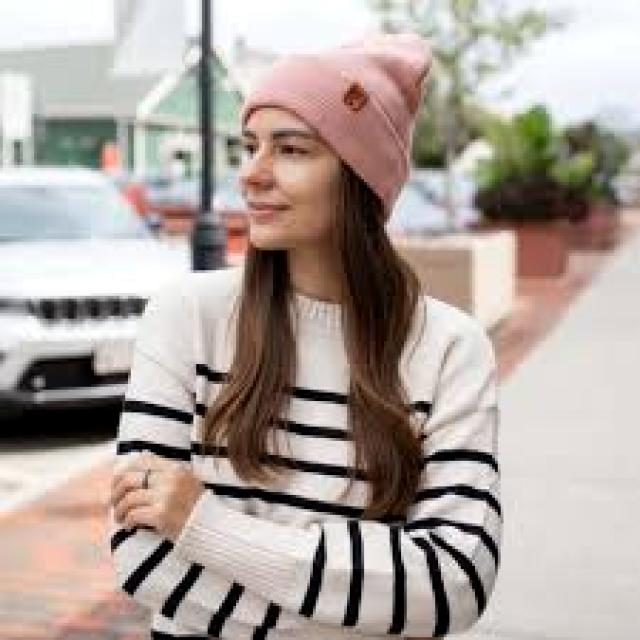hat: (242, 35, 432, 213)
top-wear: (111, 268, 500, 639)
